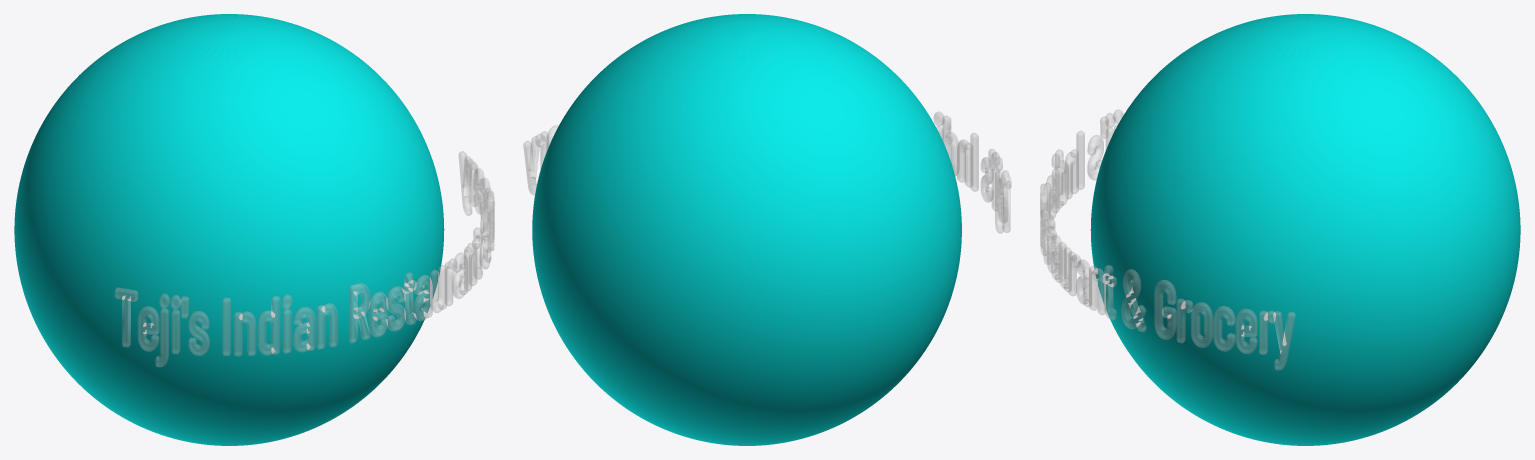
File: tejis-3.gltf
The picture shows the model from 3 angles, left to right: view 1: azimuth 30°, elevation 25°; view 2: azimuth 150°, elevation 25°; view 3: azimuth 270°, elevation 25°; orthographic projection.
Visible parts, largest first — view 1: Sphere, Text.001; view 2: Sphere, Text.001; view 3: Sphere, Text.001.
Boxes of the visible parts, x1,y1,x2,y2 form: Sphere: [14, 14, 444, 445]; Text.001: [115, 151, 494, 366]; Sphere: [532, 14, 961, 445]; Text.001: [523, 111, 1011, 233]; Sphere: [1090, 14, 1520, 445]; Text.001: [1040, 109, 1295, 369].
Size of the model in its own units: 2.21 by 1.99 by 2.2.
